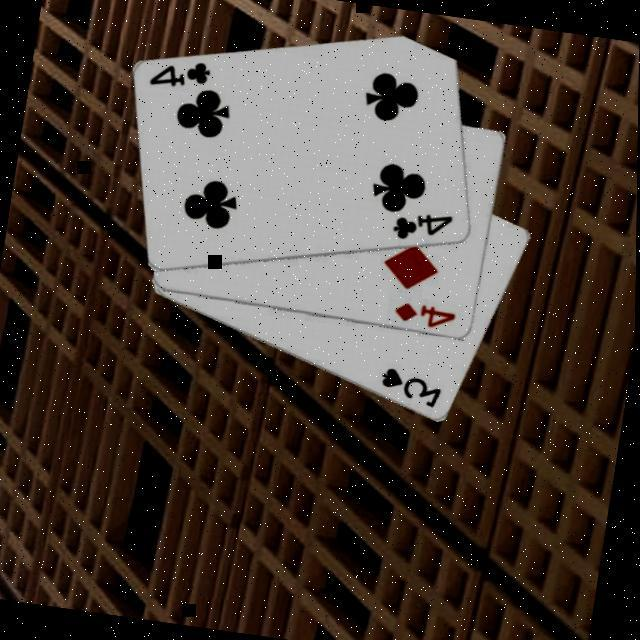3S: (378, 365, 450, 414)
4C: (147, 53, 218, 98), (391, 206, 460, 251)
4D: (394, 300, 463, 335)
